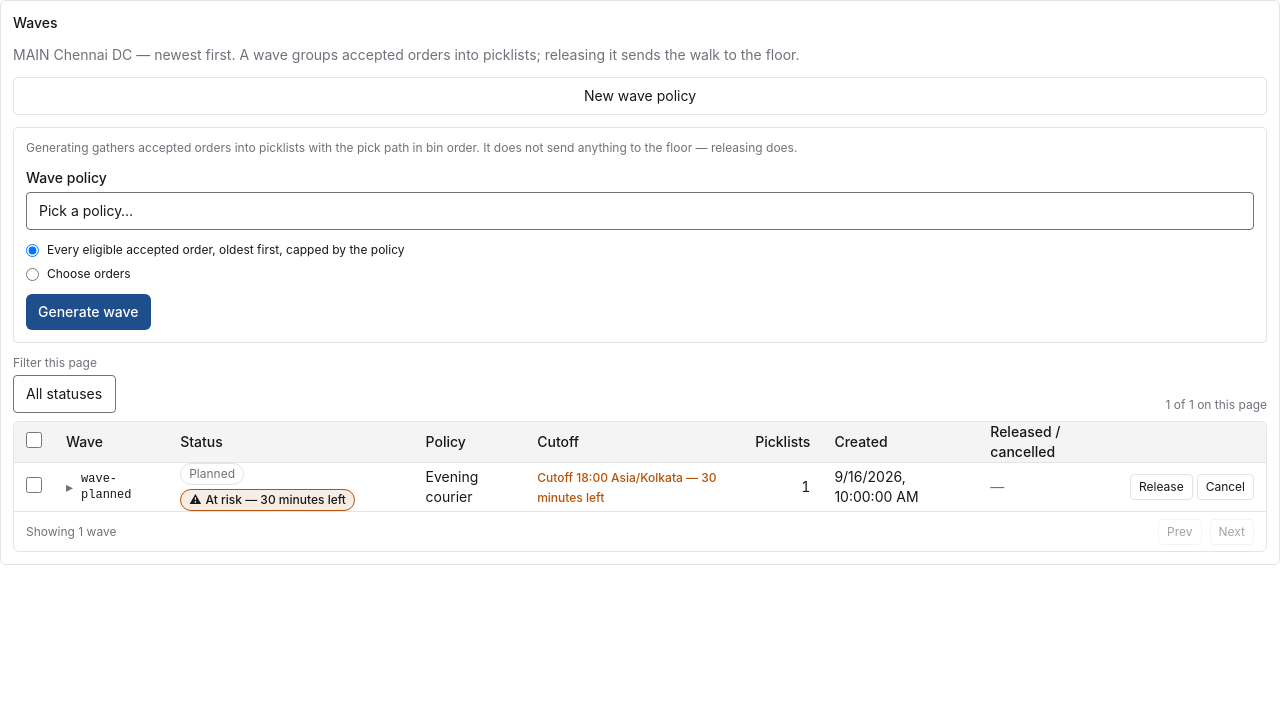
Test: pressing the row actions › a refused release shows the server’s words and retries with the SAME idempotency key
The image size is (1280, 720).
Step 1. Click the button "Release" → (1161, 487), box [1130,474,1193,500]
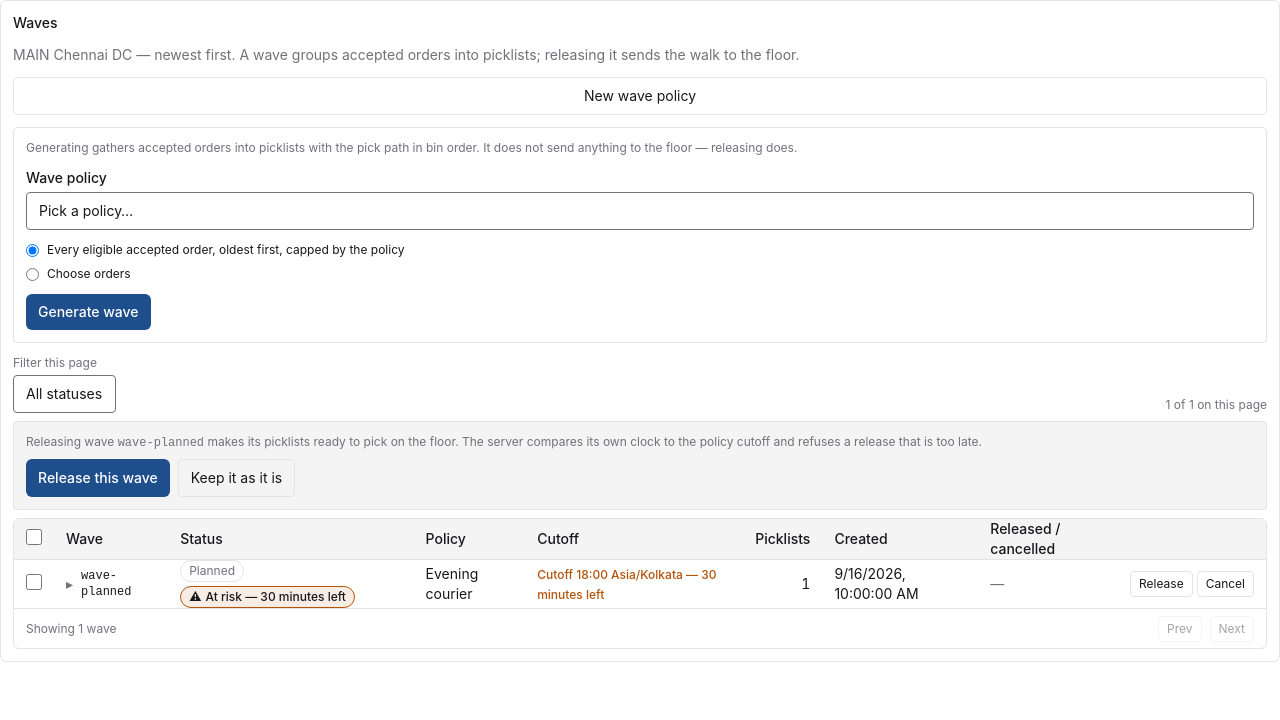
Step 2. Click the button "Release this wave" → (98, 478), box [26,459,170,497]
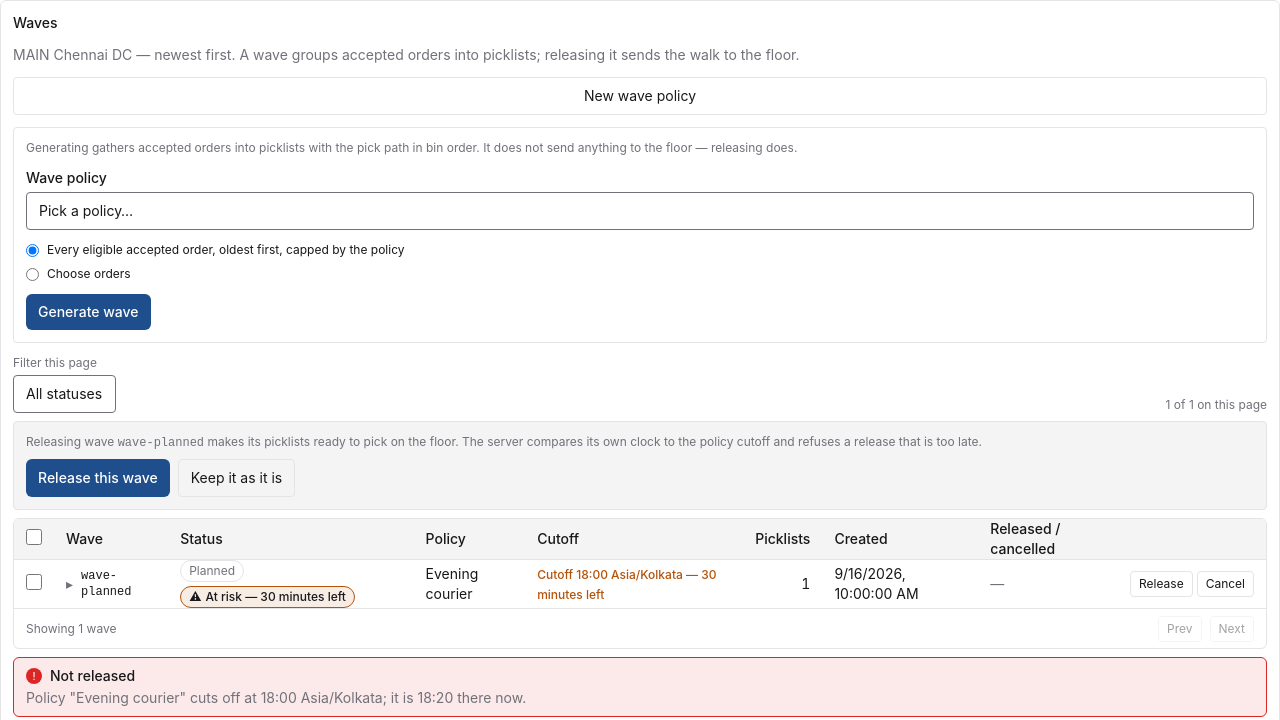
Expected: the text "Policy \"Evening courier\" cuts off at 18:00 Asia/Kolkata; it is 18:20 there now." is shown, [26,689,526,706]
Step 3. Click the button "Release this wave" → (98, 478), box [26,459,170,497]
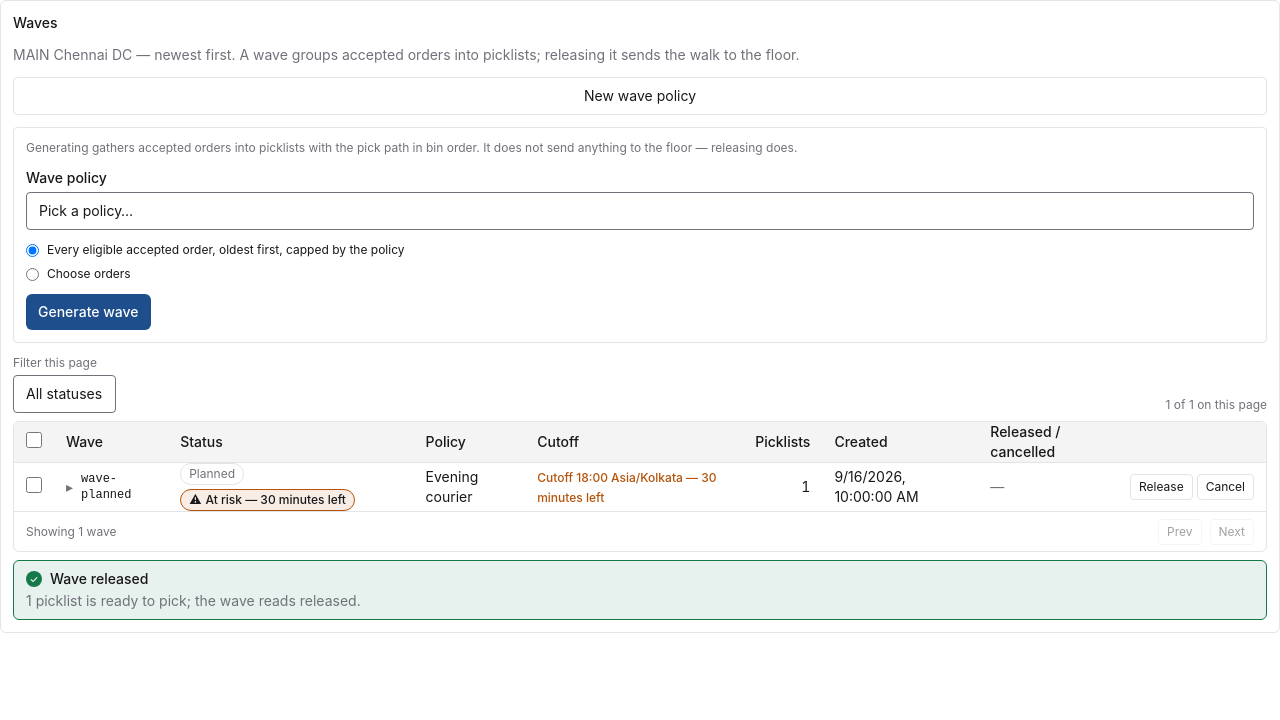
Expected: the text "Wave released" is shown, [50,570,148,587]
